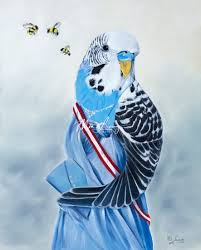budgie: (70, 29, 163, 147)
